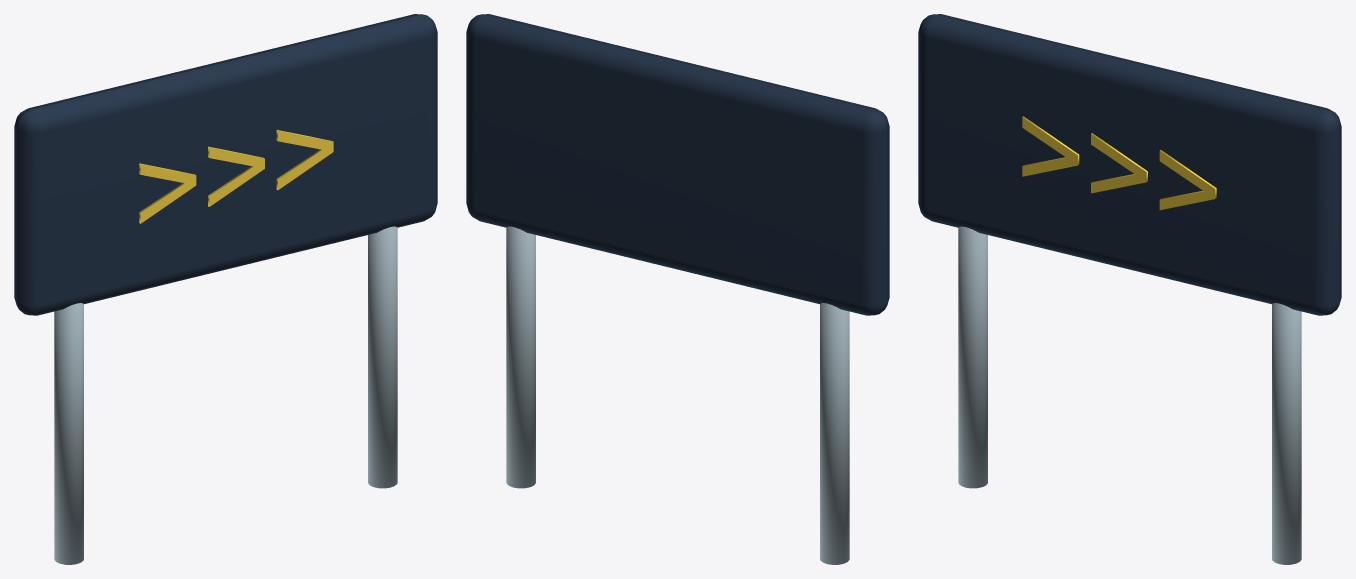
Rendered from Direction_sign_LOD1.glb.
The picture shows the model from 3 angles, left to right: view 1: azimuth 30°, elevation 25°; view 2: azimuth 150°, elevation 25°; view 3: azimuth 330°, elevation 25°; orthographic projection.
Parts seen in each view (by area): view 1: Sign, Post.001, Post, Arrow; view 2: Sign, Post.001, Post; view 3: Sign, Post, Post.001, Arrow.
Boxes of the visible parts, x1,y1,x2,y2 form: Sign: (14,14,437,315); Post.001: (368,226,397,488); Post: (54,303,83,564); Arrow: (139,130,333,223); Sign: (466,14,889,315); Post.001: (506,226,535,488); Post: (820,303,849,564); Sign: (918,14,1341,315); Post: (958,226,987,488); Post.001: (1272,303,1301,564); Arrow: (1022,116,1216,210).
Bounding box in the file's own units: 1.6 × 1.67 × 0.134.
